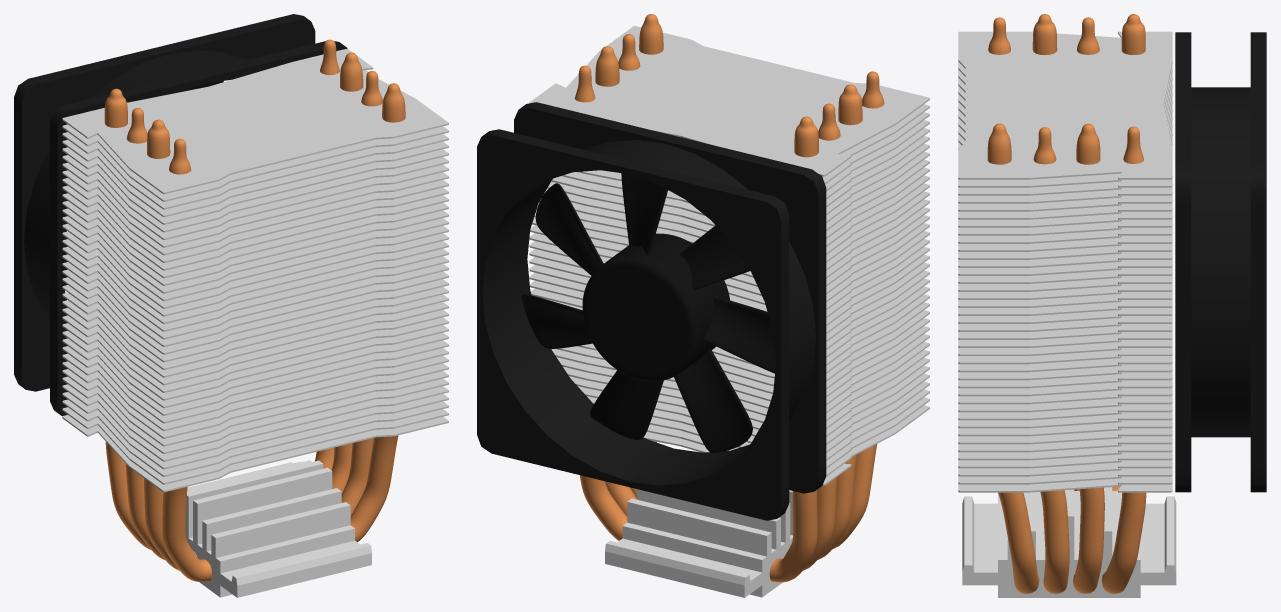
File: cpu_cooler1.glb
The picture shows the model from 3 angles, left to right: view 1: azimuth 30°, elevation 25°; view 2: azimuth 150°, elevation 25°; view 3: azimuth 270°, elevation 25°; orthographic projection. The views are drawn at different scales.
Parts seen in each view (by area): view 1: Object_4, Object_6, Object_5, Object_3; view 2: Object_4, Object_6, Object_2, Object_3, Object_5; view 3: Object_4, Object_6, Object_3, Object_5.
Boxes of the visible parts, bbox=[...] form: Object_4: bbox=[62, 49, 448, 492]; Object_6: bbox=[14, 14, 347, 416]; Object_5: bbox=[185, 460, 371, 597]; Object_3: bbox=[104, 39, 405, 581]; Object_4: bbox=[529, 26, 929, 485]; Object_6: bbox=[477, 102, 826, 520]; Object_2: bbox=[521, 173, 775, 452]; Object_3: bbox=[574, 14, 884, 582]; Object_5: bbox=[605, 489, 792, 597]; Object_4: bbox=[958, 31, 1172, 492]; Object_6: bbox=[1175, 32, 1266, 492]; Object_3: bbox=[987, 14, 1146, 593]; Object_5: bbox=[962, 487, 1176, 597].
Size of the model in its own units: 2.93 by 4.48 by 2.53.
